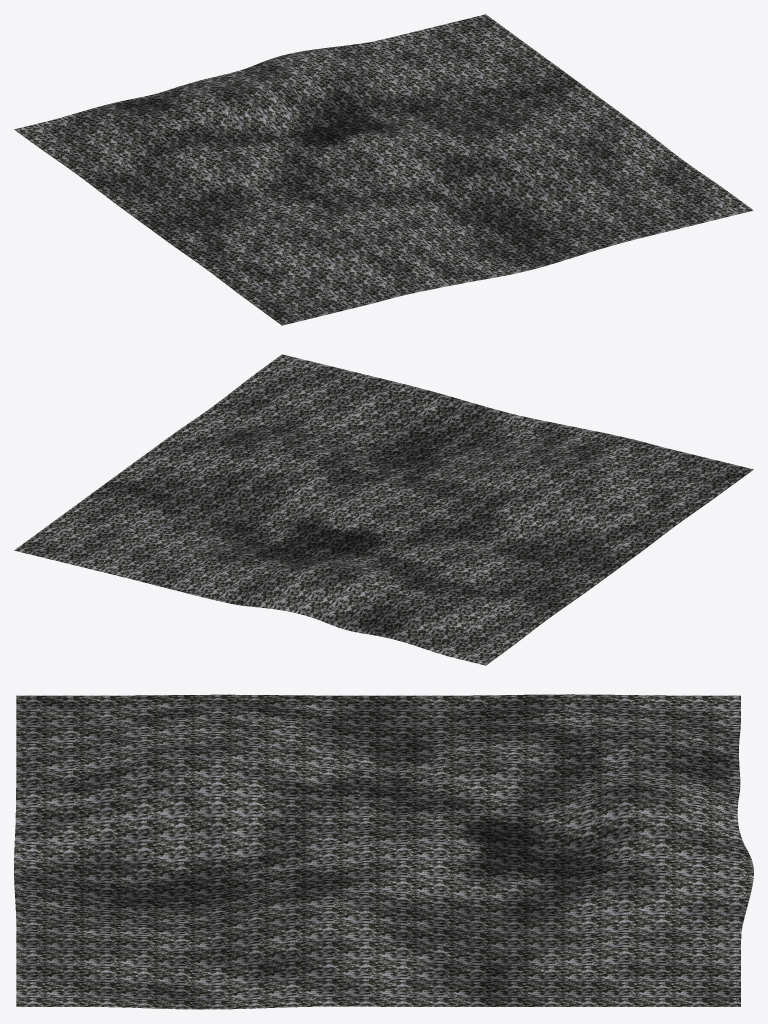
3 renders of one model, top to bottom at view 1: azimuth 30°, elevation 25°; view 2: azimuth 150°, elevation 25°; view 3: azimuth 270°, elevation 25°, orthographic. The views are drawn at different scales.
Parts seen in each view (by area): view 1: Grade-col; view 2: Grade-col; view 3: Grade-col.
Part boxes in pixels (x1,y1,x2,y2): Grade-col: [14, 14, 753, 325]; Grade-col: [14, 354, 753, 665]; Grade-col: [14, 694, 753, 1009].
Size of the model in its own units: 2013 by 117 by 2021.
Materials: 1 (1 with a texture image).
